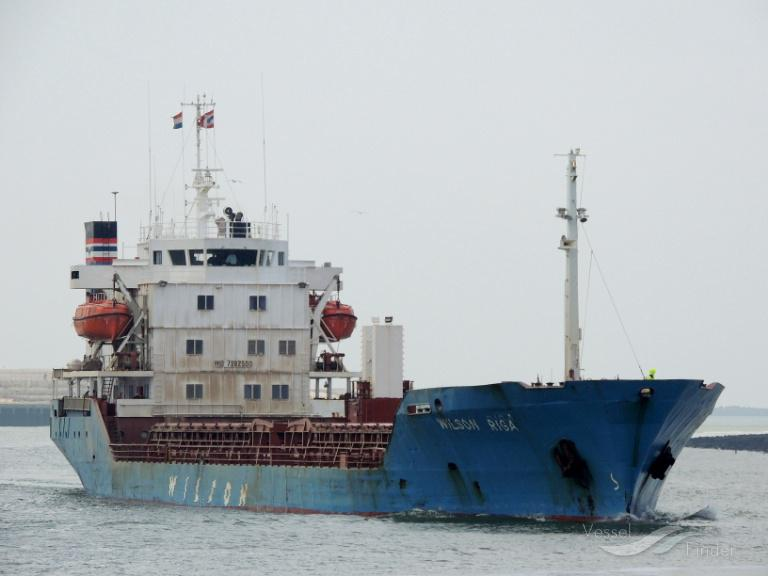OCR: (162, 466, 259, 506), (428, 410, 520, 442)
